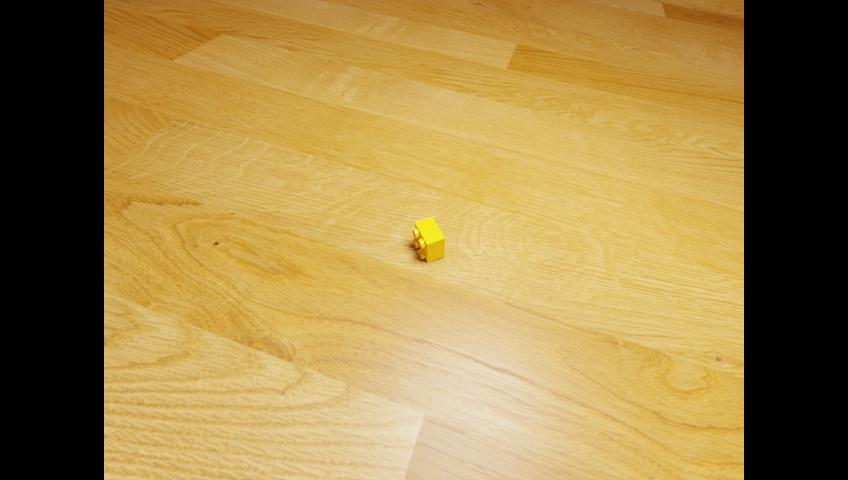2x2_yellow: (412, 216, 444, 262)
